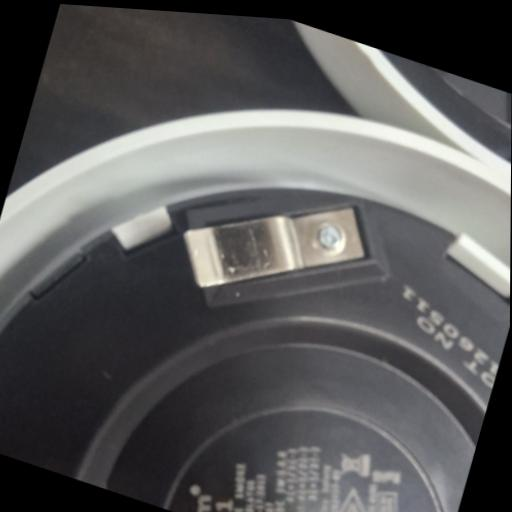yaysiz: (155, 146, 381, 350)
